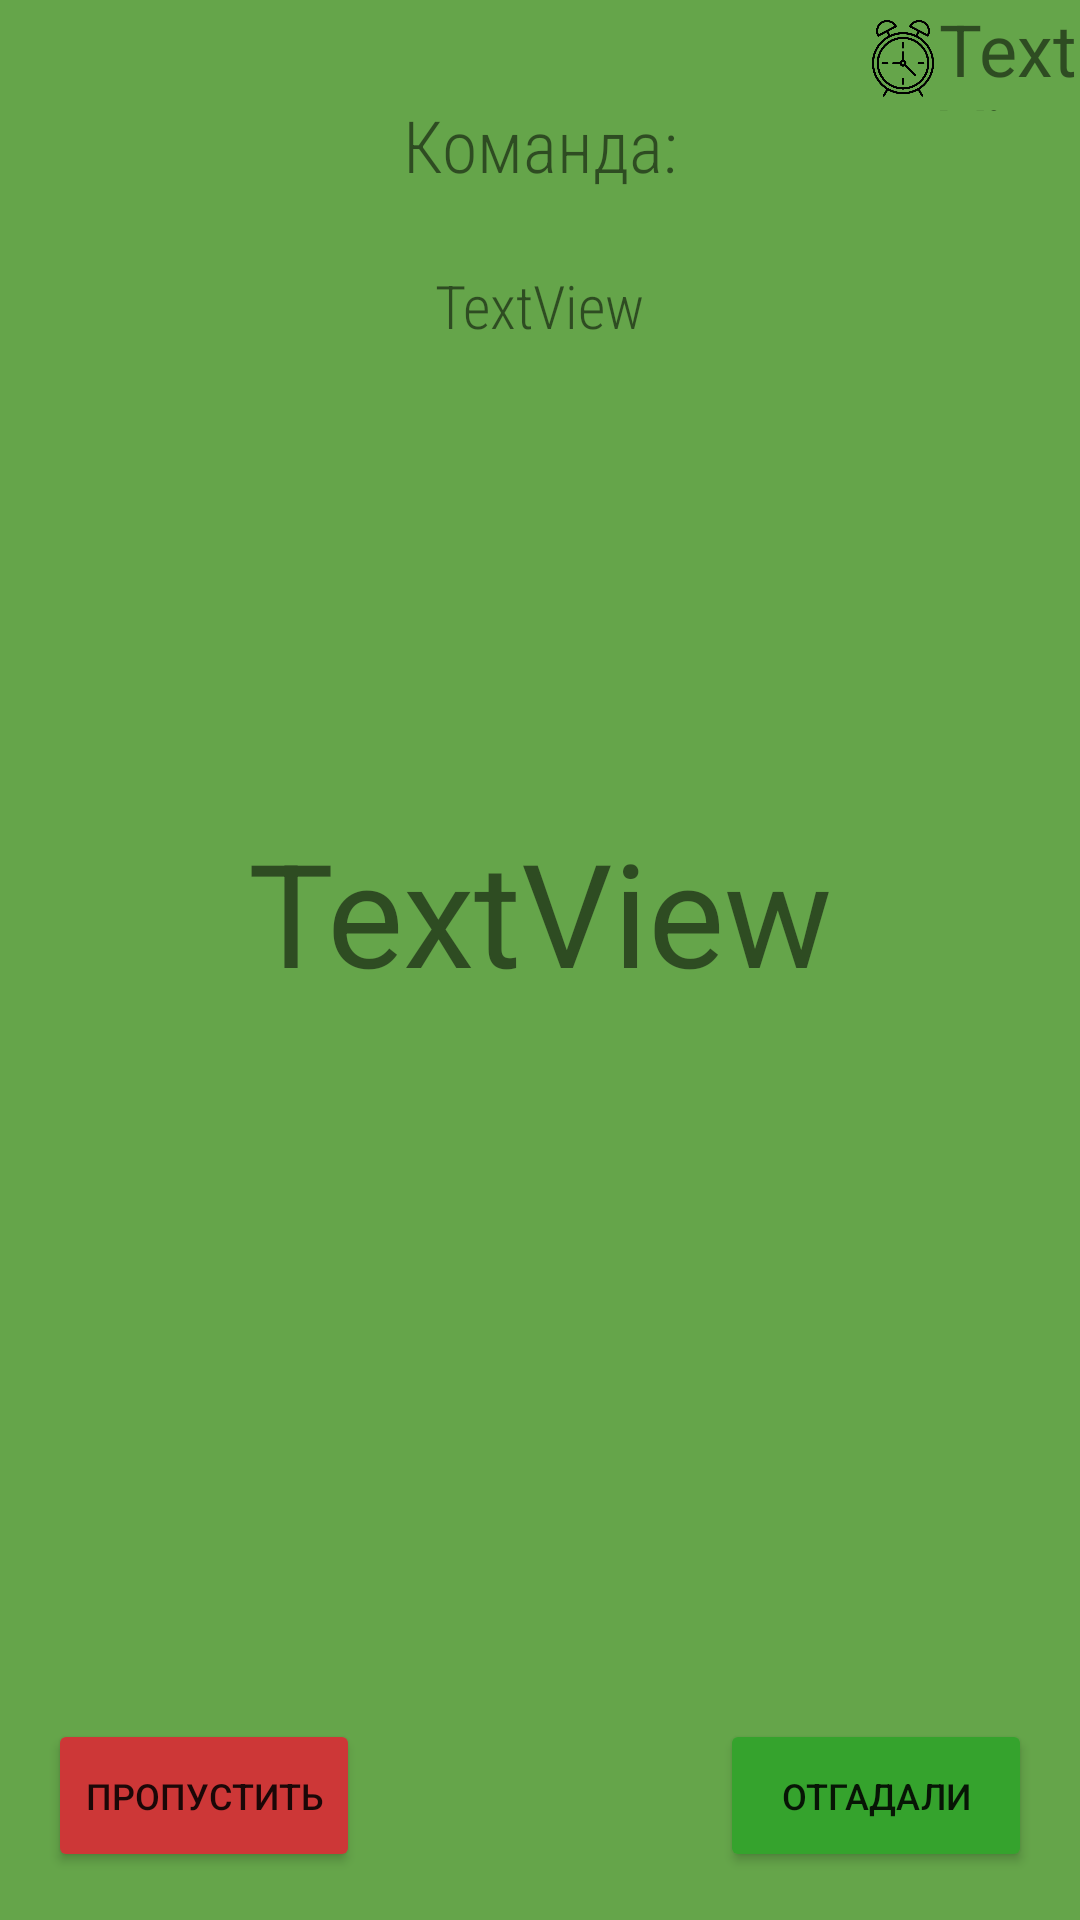

Icons on this 1080 x 1920 Android screen, each with its box as region(x1, y1, x2, y2):
clock: region(872, 20, 934, 97)
